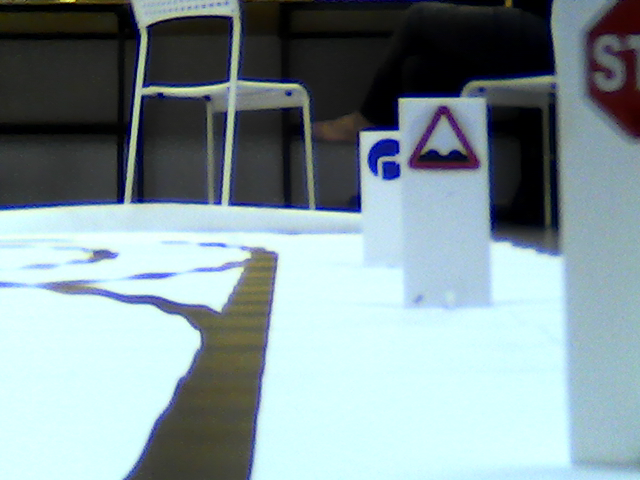Nerov: (406, 104, 484, 171)
